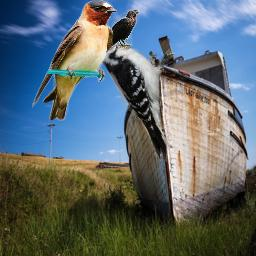Crow: (103, 9, 140, 51)
Swallow: (32, 0, 117, 121)
Woodpecker: (92, 28, 177, 162)
